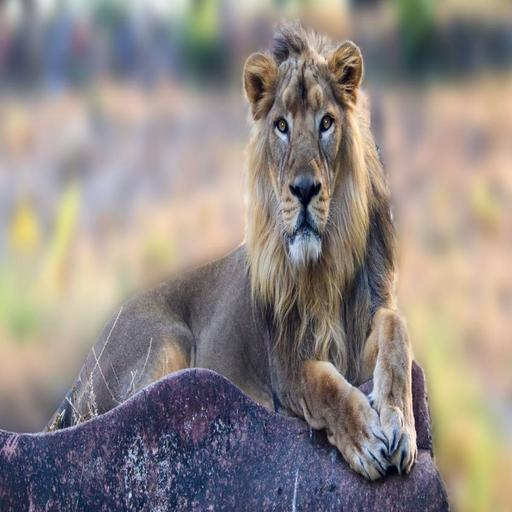Lion: (37, 19, 439, 496)
